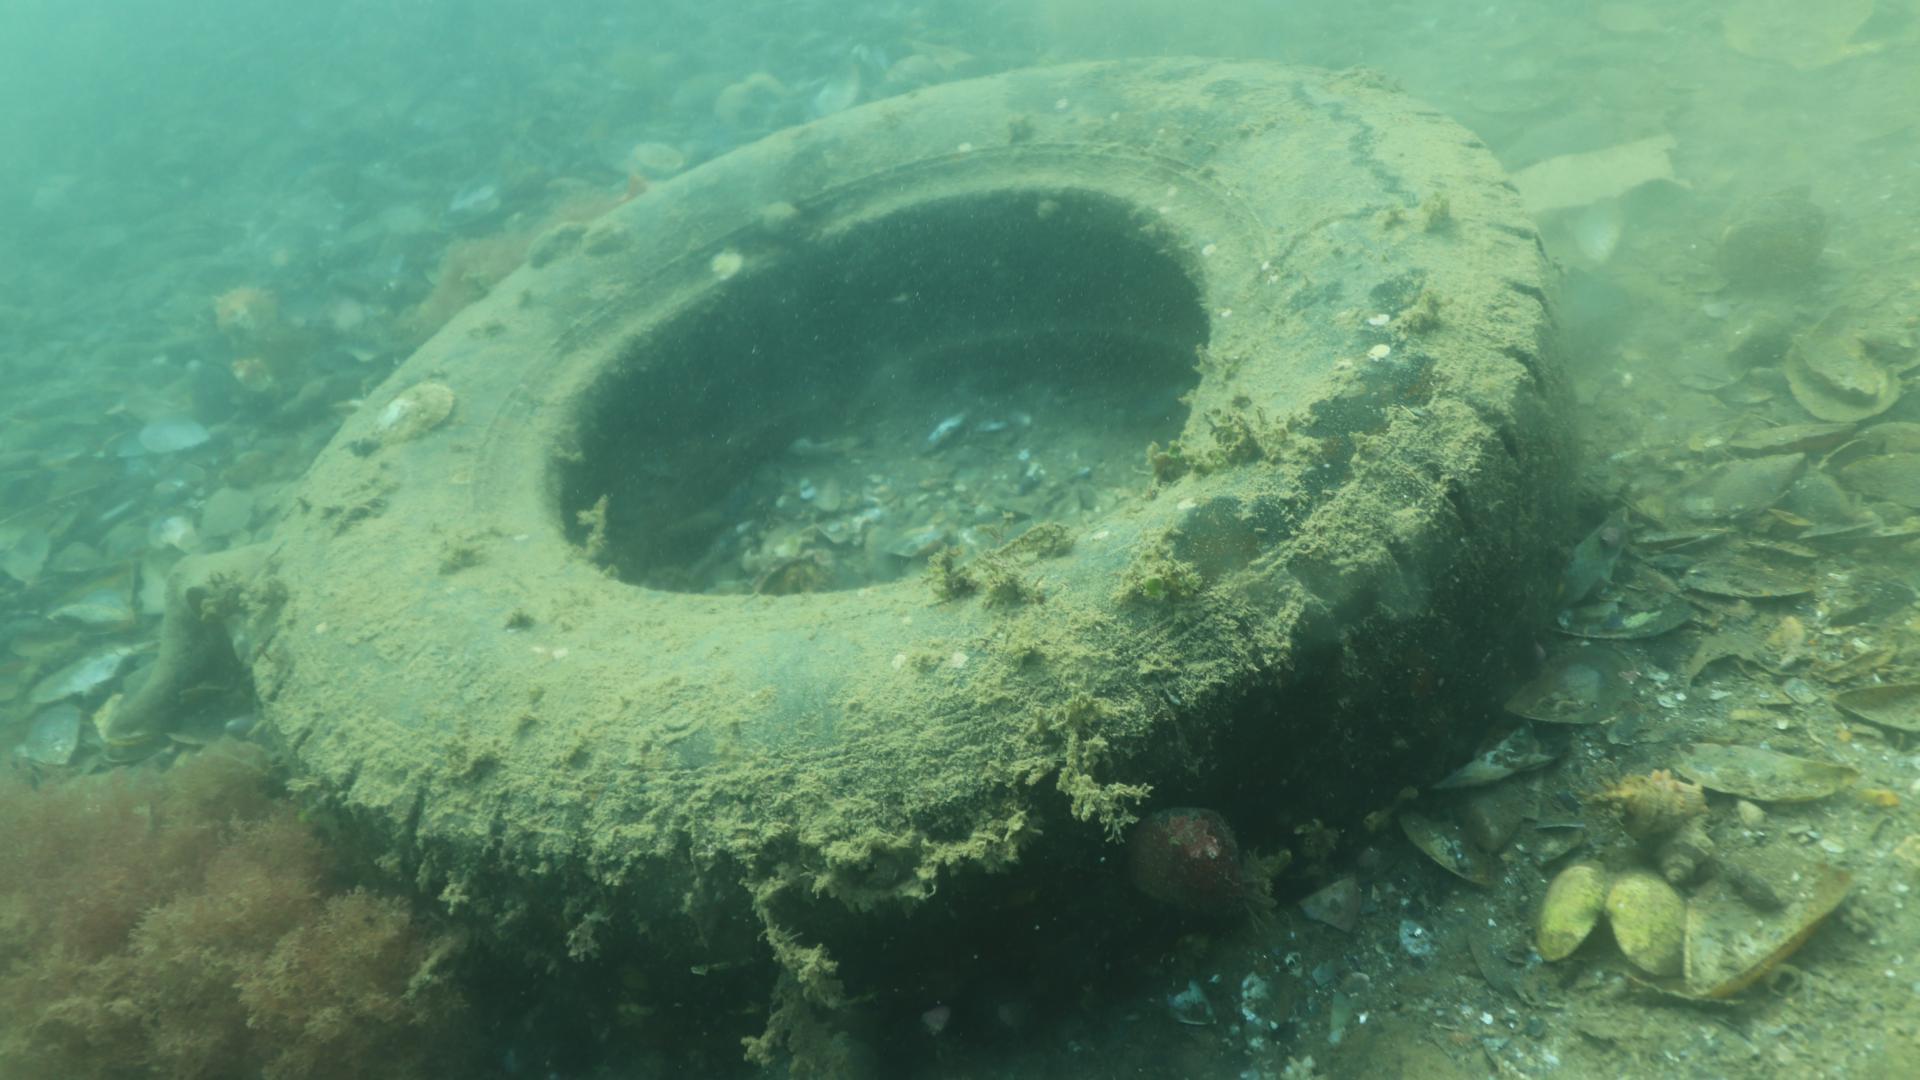tire: (244, 51, 1582, 1055)
